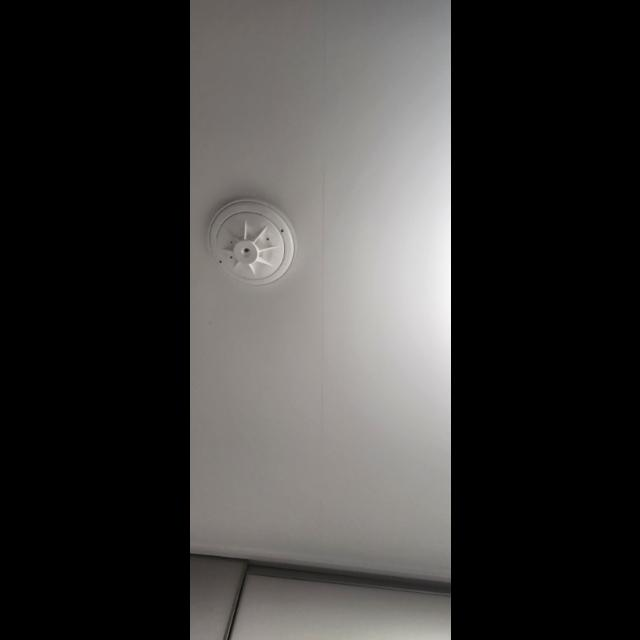Smoke-Detector: (206, 200, 298, 288)
